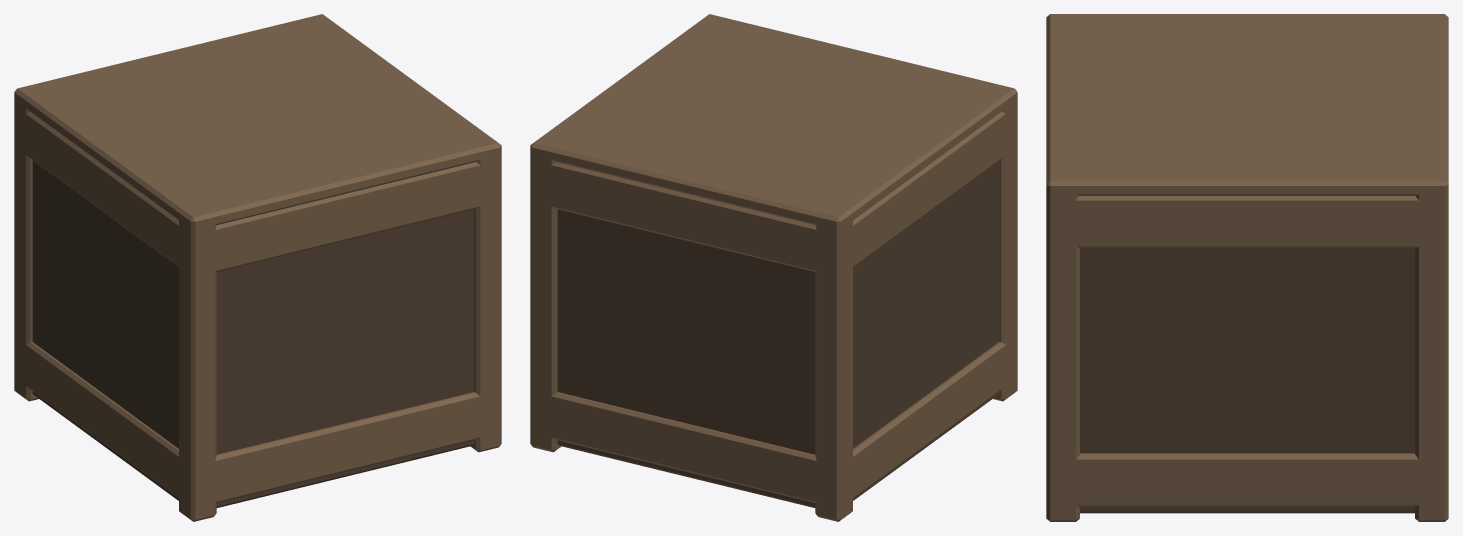
File: Crate.fbx
3 renders of one model, left to right at view 1: azimuth 30°, elevation 25°; view 2: azimuth 150°, elevation 25°; view 3: azimuth 270°, elevation 25°, orthographic. The views are drawn at different scales.
Visible parts, largest first — view 1: Crate; view 2: Crate; view 3: Crate.
Boxes of the visible parts, <box> form: Crate: <box>14,14,501,521</box>; Crate: <box>530,14,1017,521</box>; Crate: <box>1046,14,1448,521</box>.
Size of the model in its own units: 62 by 58 by 62.
